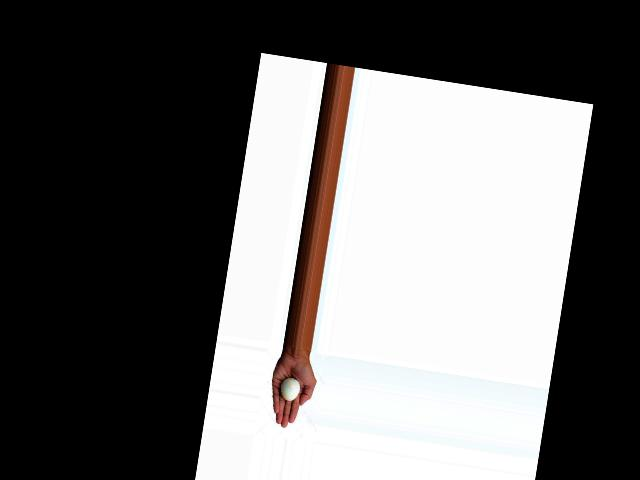egg: (279, 376, 300, 403)
